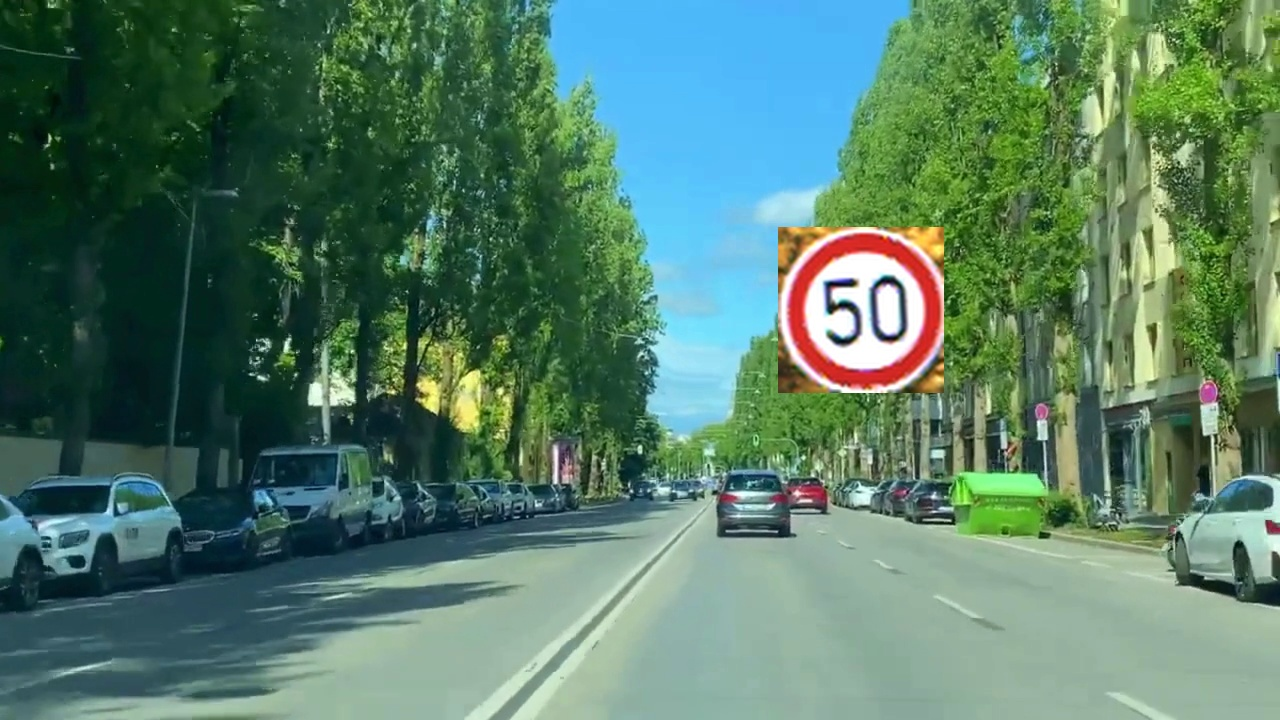Speed 50: (778, 227, 944, 393)
